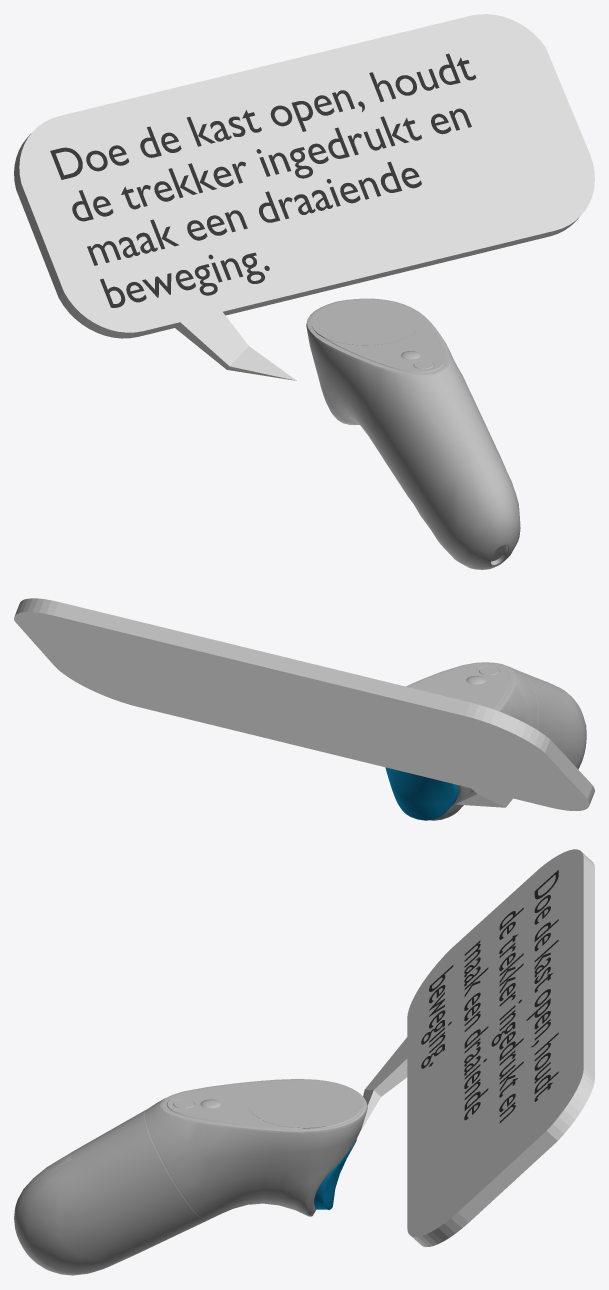
The model's file is REMOTE-tutorial-5-open-closet.fbx.
3 views of the same model, one above another, from view 1: azimuth 30°, elevation 25°; view 2: azimuth 150°, elevation 25°; view 3: azimuth 270°, elevation 25° (orthographic). The views are drawn at different scales.
Visible parts, largest first — view 1: Curve, Circle, Text; view 2: Curve, Circle; view 3: Curve, Circle, Text.
Boxes of the visible parts, x1=… form: Curve: x1=14, y1=14, x2=594, y2=380; Circle: x1=306, y1=298, x2=520, y2=569; Text: x1=50, y1=53, x2=476, y2=307; Curve: x1=14, y1=598, x2=594, y2=810; Circle: x1=385, y1=662, x2=586, y2=820; Curve: x1=360, y1=849, x2=594, y2=1247; Circle: x1=14, y1=1079, x2=367, y2=1275; Text: x1=421, y1=870, x2=558, y2=1123.
Bounding box in the file's own units: 426 × 241 × 388.
